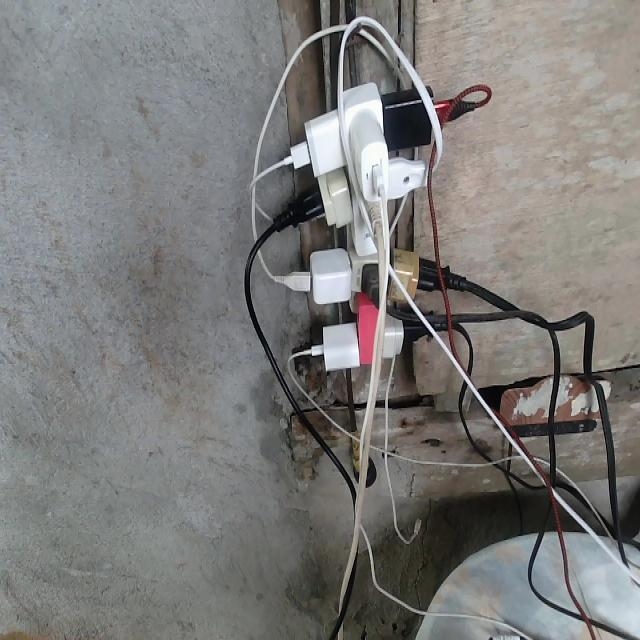-: (284, 76, 457, 373)
